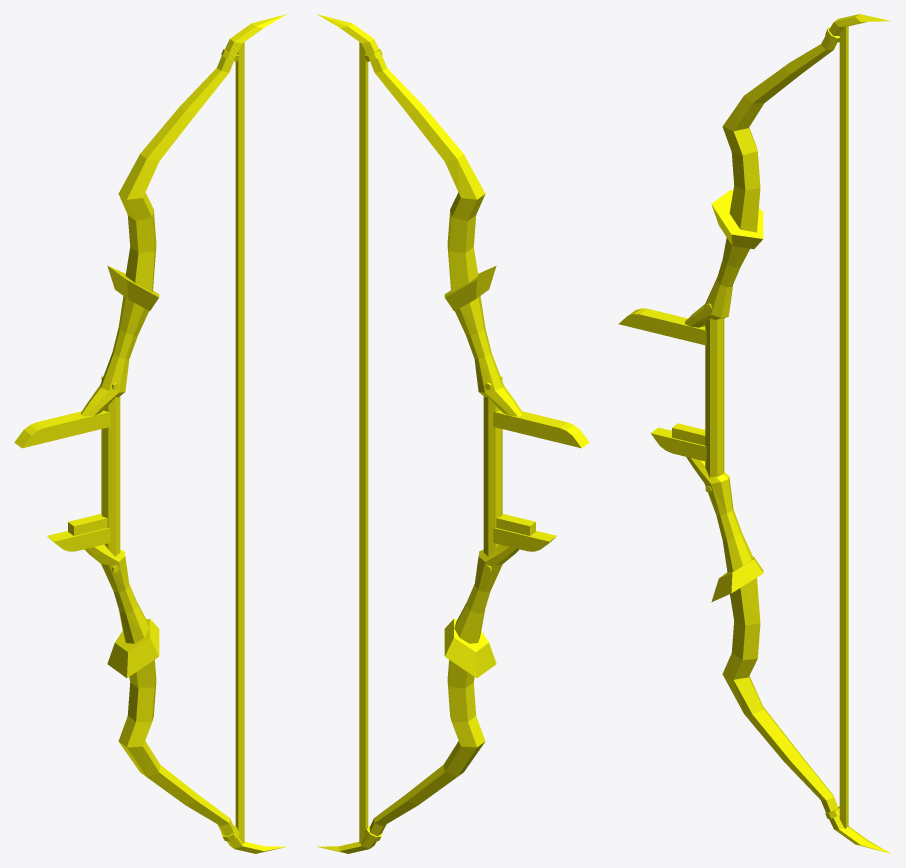
File: _bow_15.glb
3 views of the same model, side by side, from view 1: azimuth 30°, elevation 25°; view 2: azimuth 150°, elevation 25°; view 3: azimuth 330°, elevation 25° (orthographic).
Visible parts, largest first — view 1: bow_15; view 2: bow_15; view 3: bow_15.
Boxes of the visible parts, <box> form: bow_15: <box>14,14,286,853</box>; bow_15: <box>317,14,589,853</box>; bow_15: <box>618,14,890,853</box>.
Bounding box in the file's own units: 0.3174 × 0.9376 × 0.0647.
Materials: 1 (1 with a texture image).
